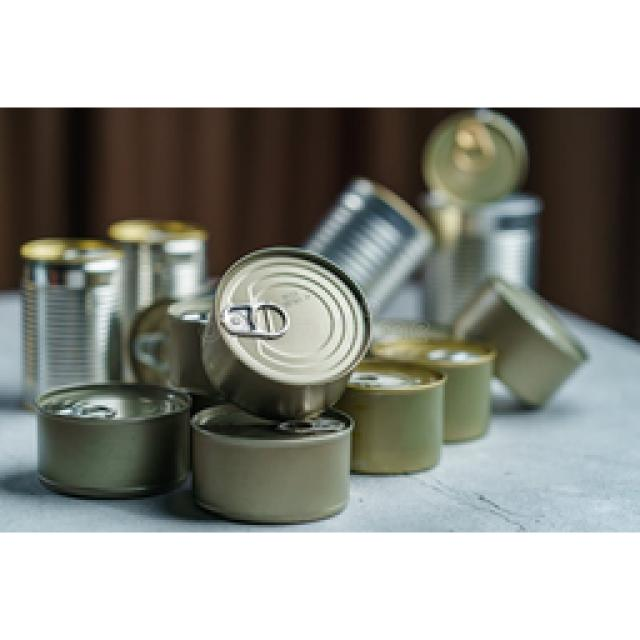alumunium: (22, 110, 585, 520)
